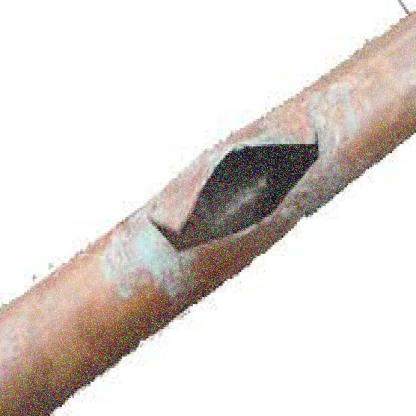burst: (131, 125, 331, 264)
